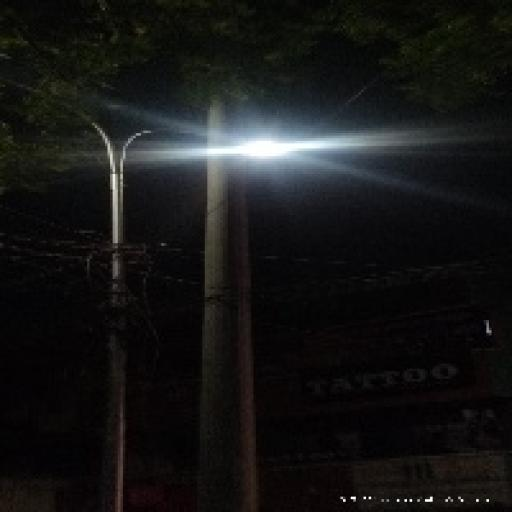Working: (224, 133, 300, 164)
